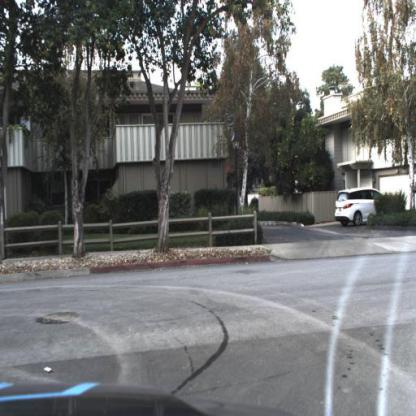car: (335, 188, 387, 229), (334, 188, 385, 228)
